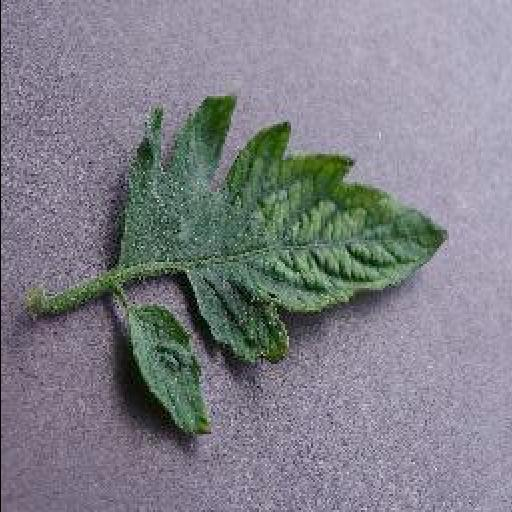Mosaic Virus: (114, 88, 454, 440)
